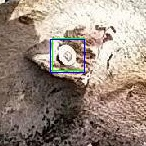text: (52, 38, 84, 70)
